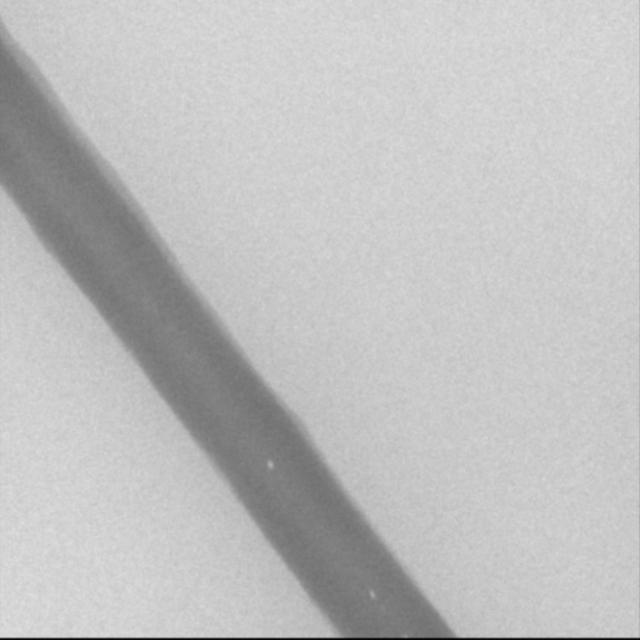air hole: (265, 457, 275, 470), (368, 588, 376, 600)
